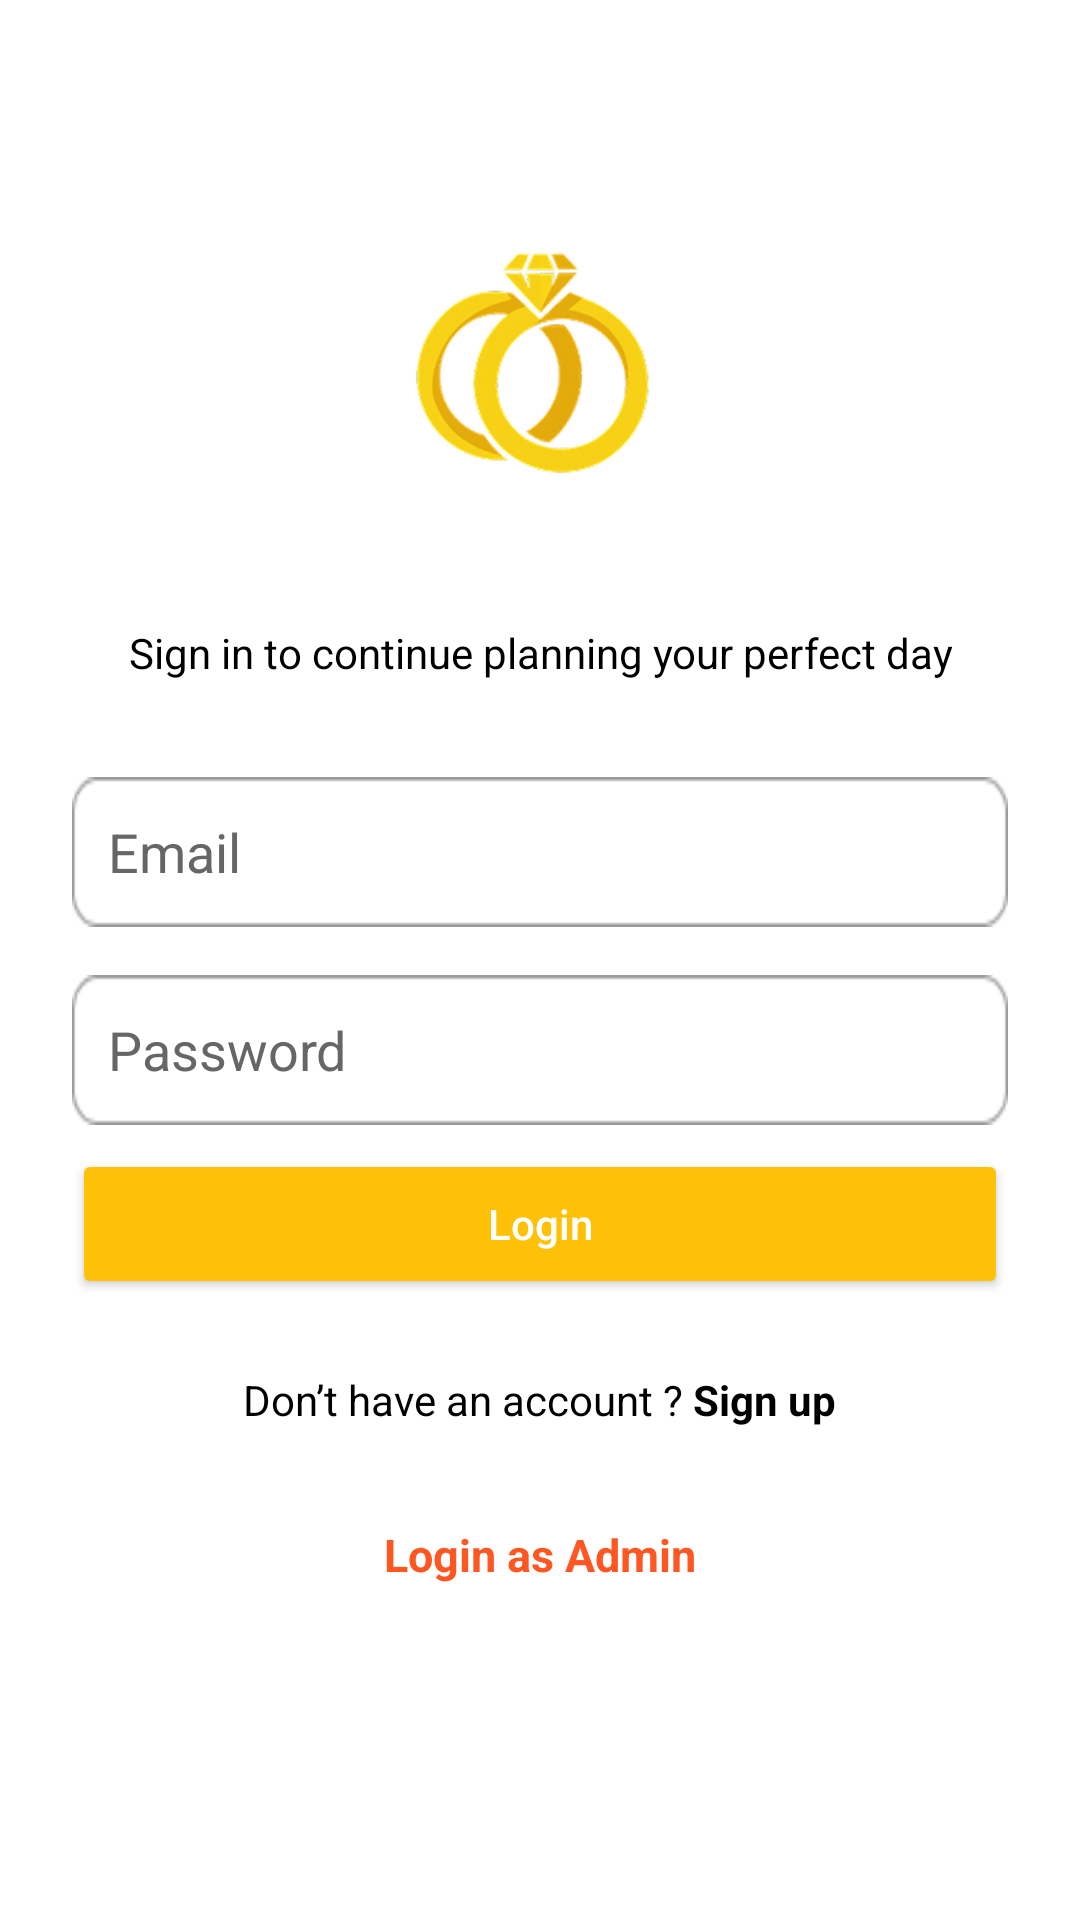

Screen size 1080*1920. Icon name, then its center in pixels as (x=x, y=y):
ring: (x=532, y=363)
